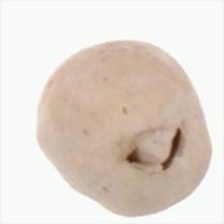L3: (121, 124, 186, 172)
L4: (37, 39, 214, 218)
